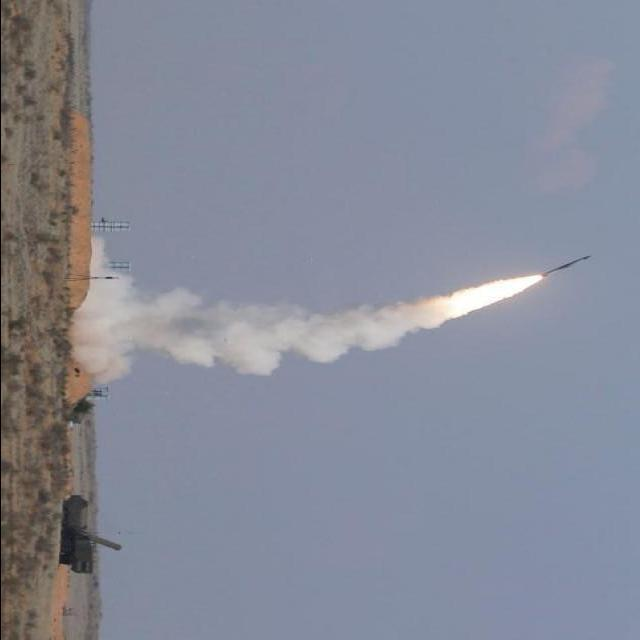missile: (544, 252, 593, 278)
